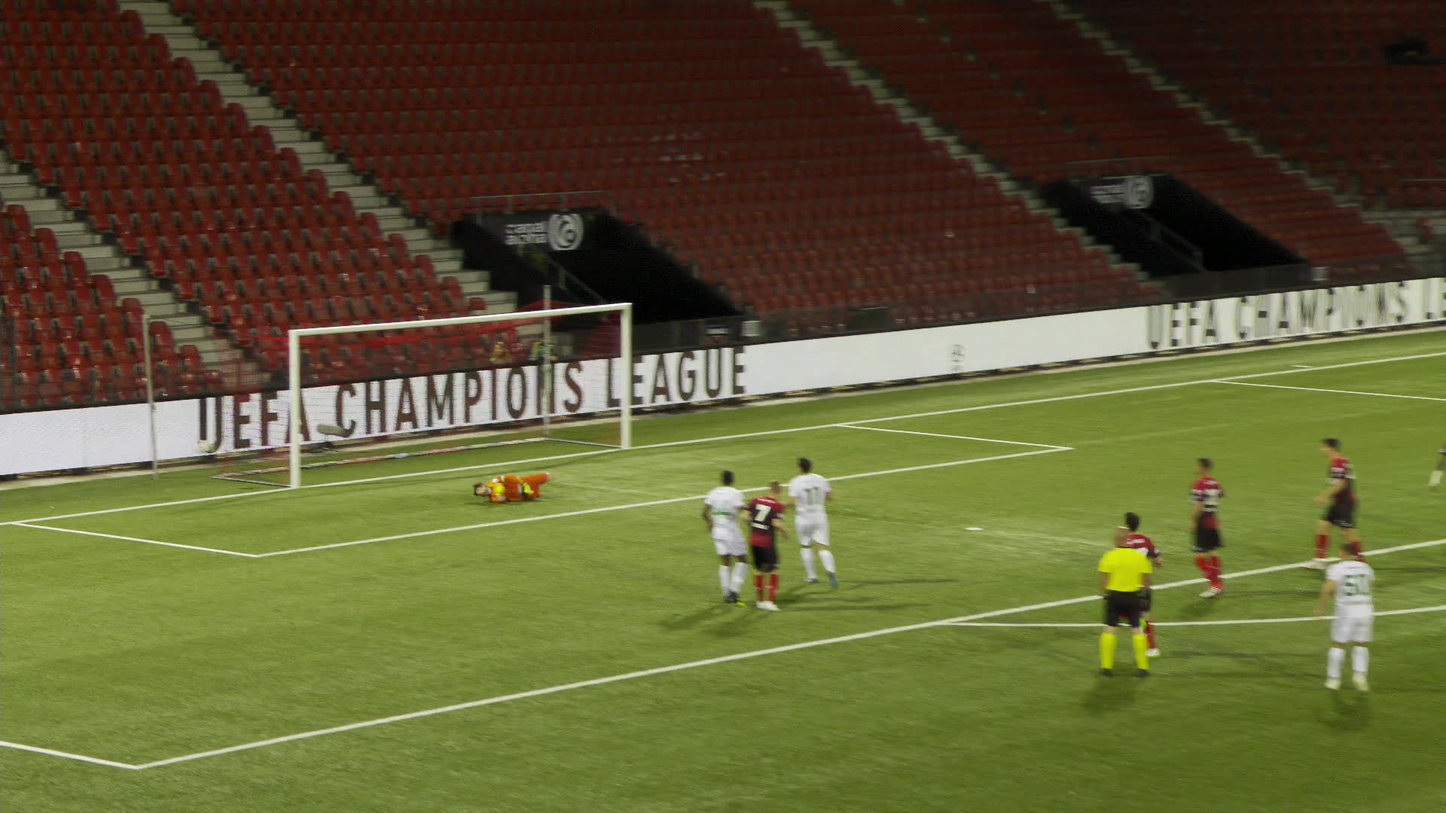ball: (193, 440, 211, 454)
player: (1106, 508, 1167, 650), (1317, 541, 1375, 690), (781, 458, 839, 589), (1298, 434, 1353, 569), (736, 479, 783, 609), (692, 467, 737, 602), (1184, 455, 1226, 596), (468, 466, 545, 502), (1423, 415, 1445, 489)
referee: (1086, 523, 1145, 674)
